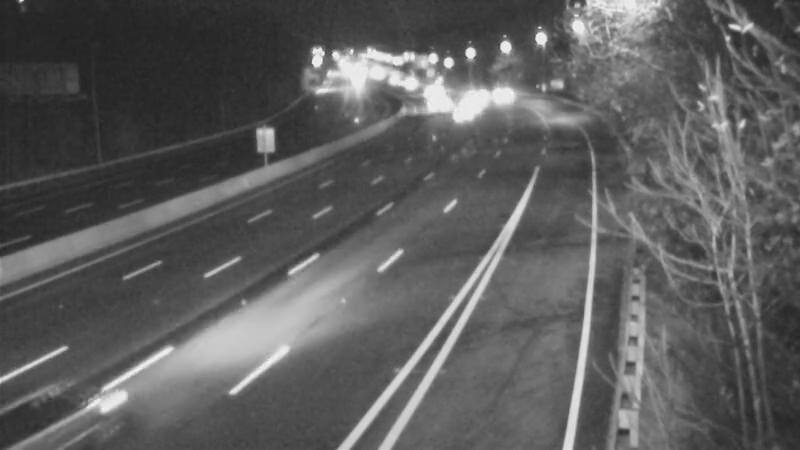vehicle: (1, 348, 111, 450), (366, 54, 416, 104), (385, 58, 435, 108), (404, 67, 454, 117), (476, 67, 526, 117), (453, 68, 503, 118), (412, 81, 462, 131), (443, 85, 493, 135)
